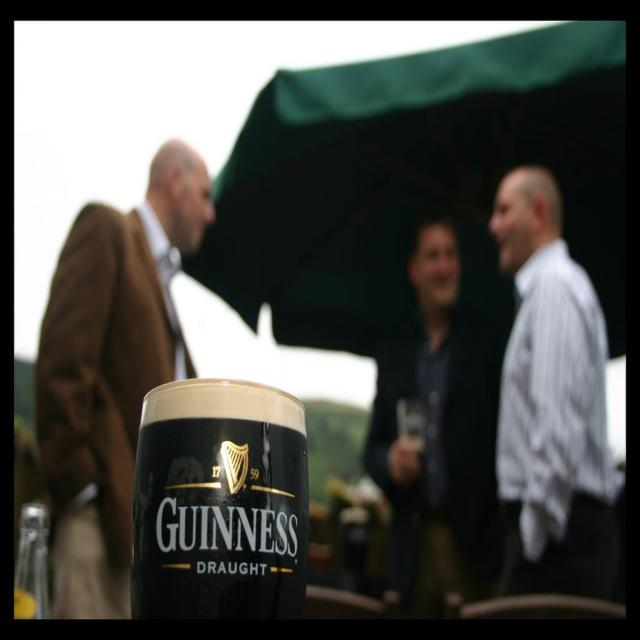guiness: (153, 439, 299, 560)
